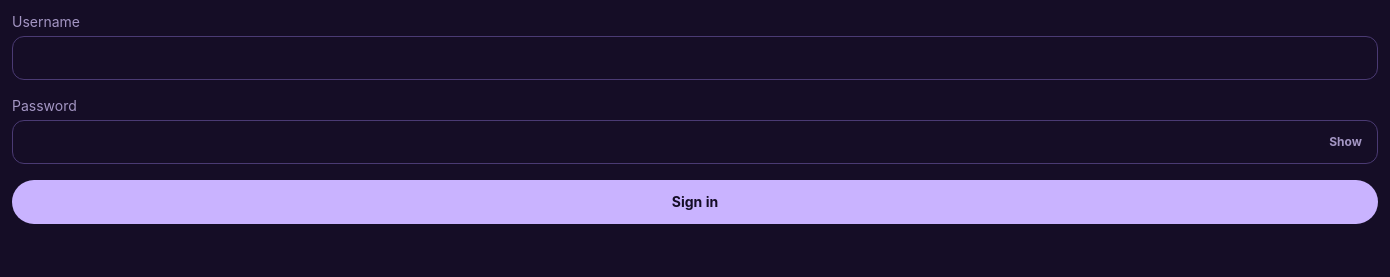
Test case: LoginForm › shows a network error when the server is unreachable
Step 1. Type "kafka" into the field labelled "Username" → (695, 58), box 12,36 -> 1378,80
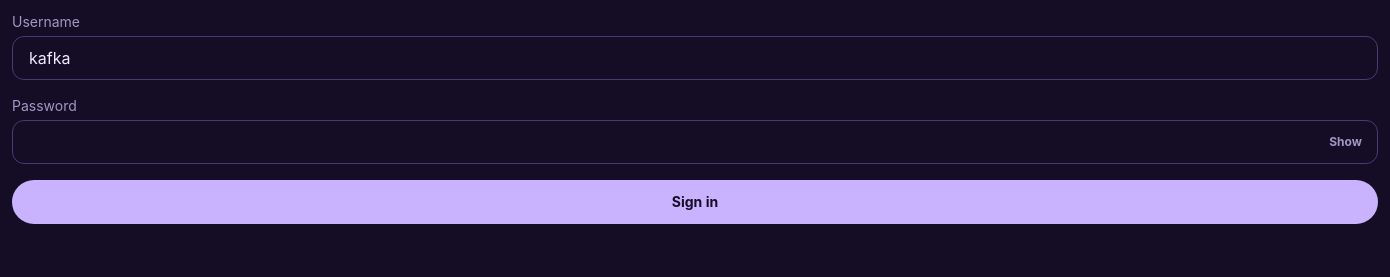
Step 2. Type "password123" into the password field labelled "Password" → (695, 142), box 12,120 -> 1378,164
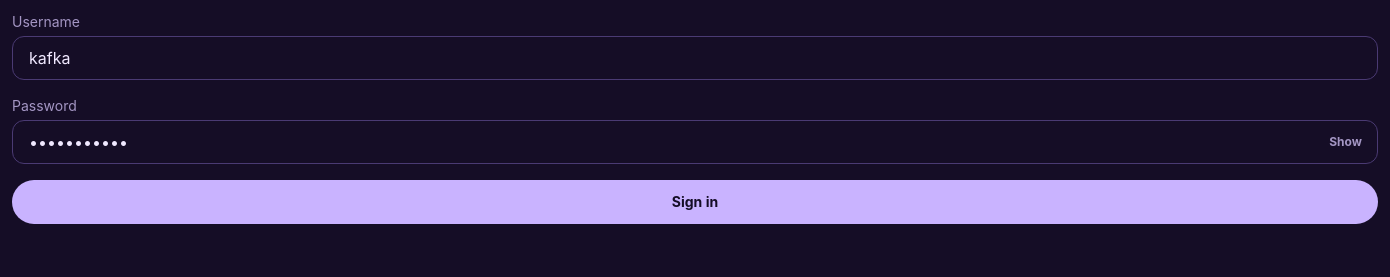
Step 3. Click the button "Sign in" → click(695, 202), box 12,180 -> 1378,224
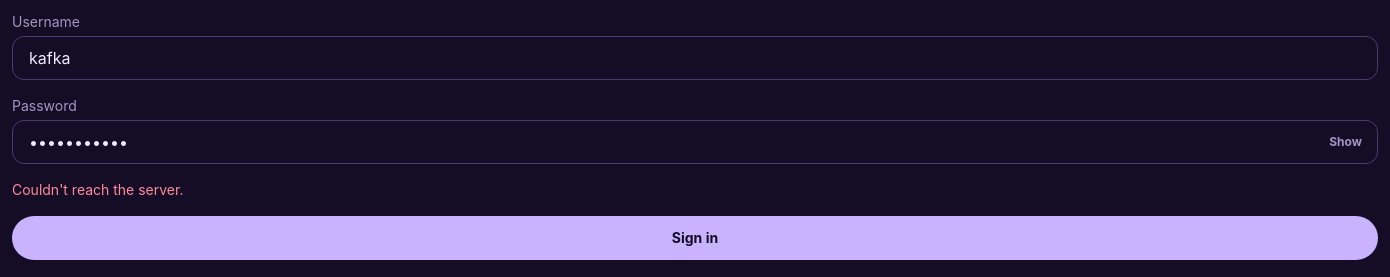
Expected: the message reads "Couldn't reach the server.", 12,181 -> 184,198
